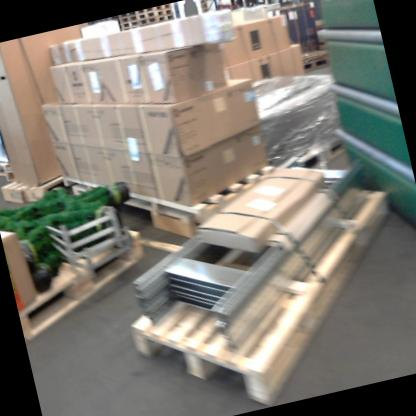pallet: (101, 144, 416, 416), (64, 126, 275, 271), (5, 204, 174, 343), (0, 151, 97, 224), (282, 127, 356, 190), (295, 39, 338, 80), (0, 149, 16, 184), (134, 9, 156, 21), (136, 16, 158, 27), (158, 12, 177, 22), (157, 8, 176, 17), (119, 15, 138, 24), (120, 20, 139, 29), (136, 7, 156, 15), (118, 12, 136, 20), (157, 4, 172, 11)
